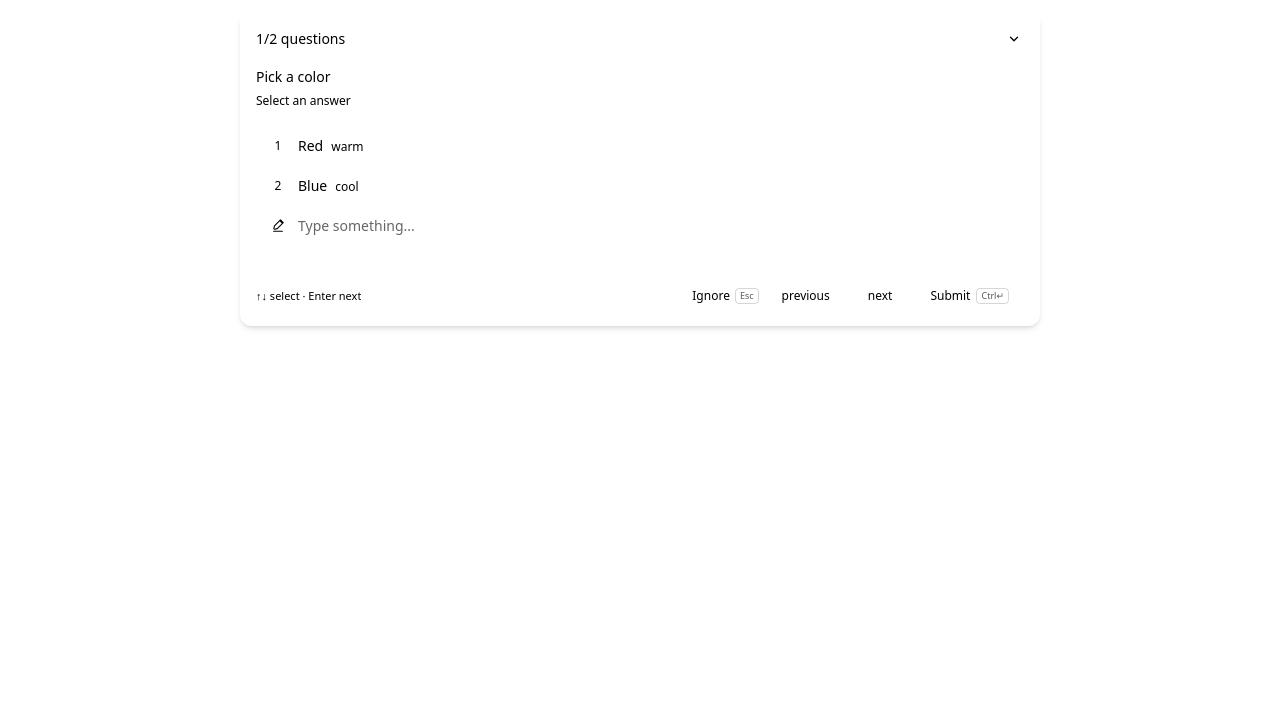
Test: AskUserQuestion multiple questions › moves between questions with horizontal arrows from an action button
Step 1. Click the button "next" → (880, 296), box 853,282 -> 907,310
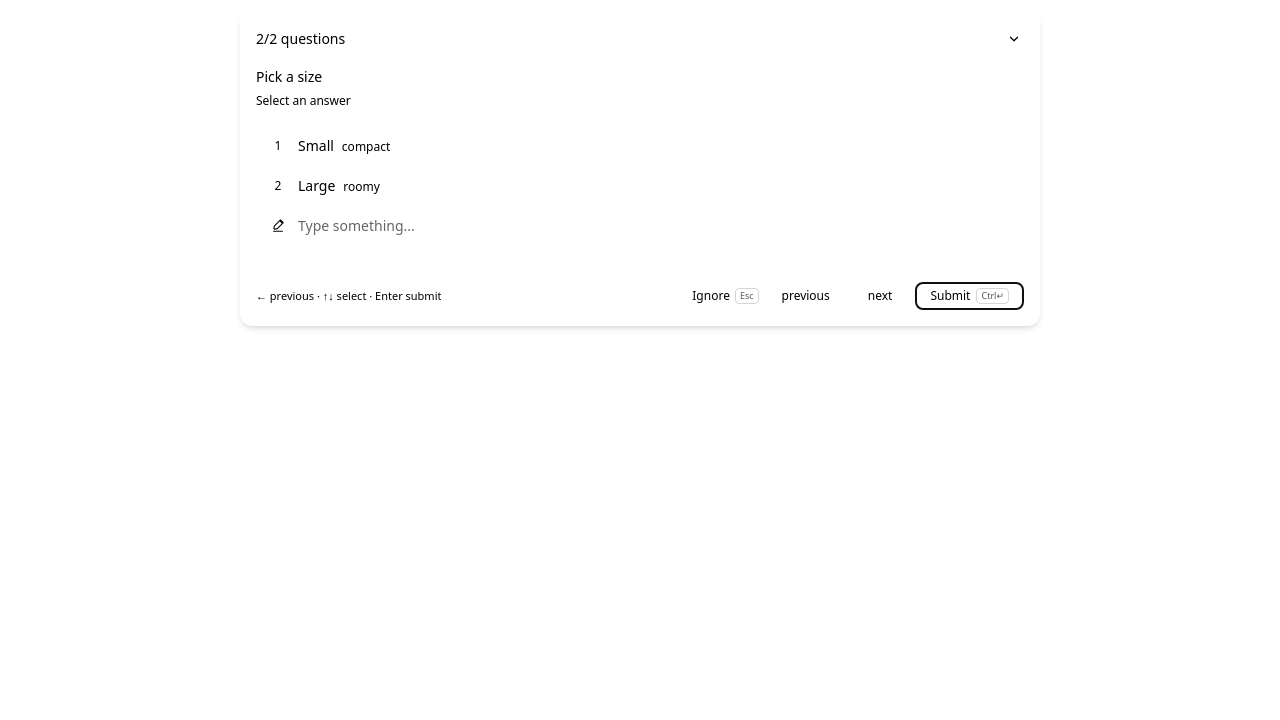
Step 2. Press ArrowLeft in the button "Submit", box 915,282 -> 1024,310
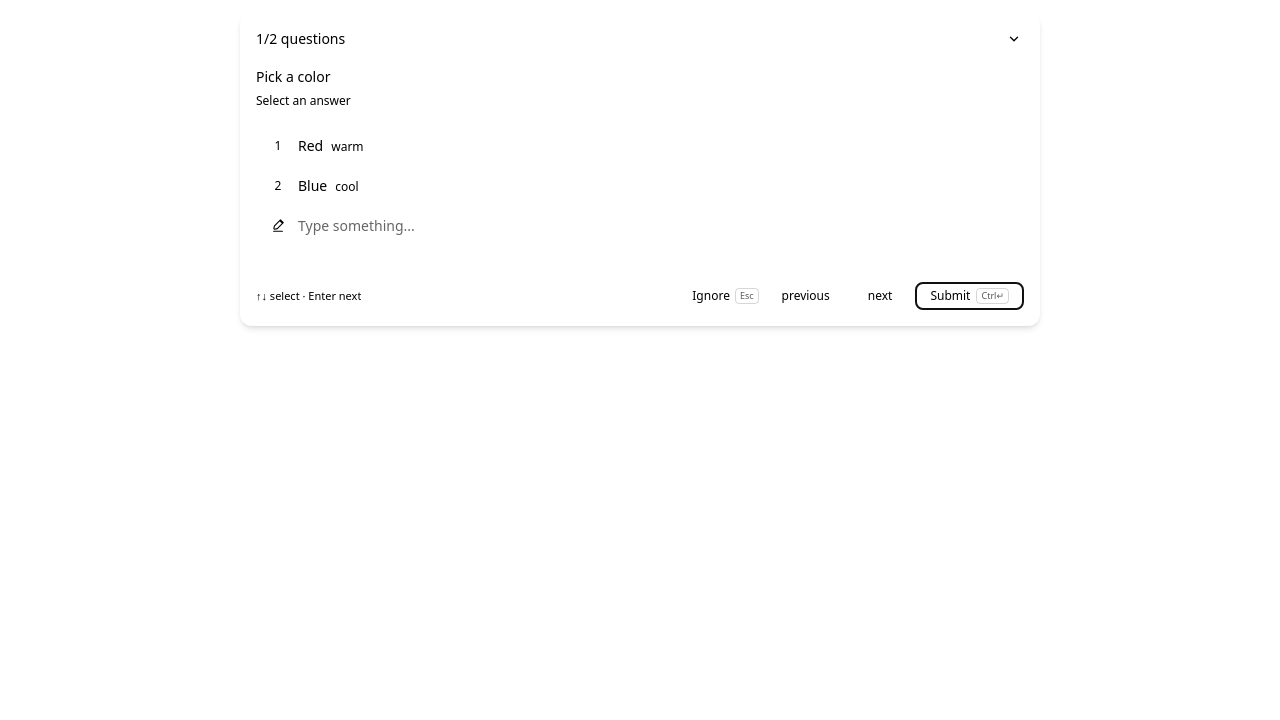
Expected: the text "Pick a color" is shown, 256,67 -> 330,86
Step 3. Press ArrowRight in the button "Submit", box 915,282 -> 1024,310
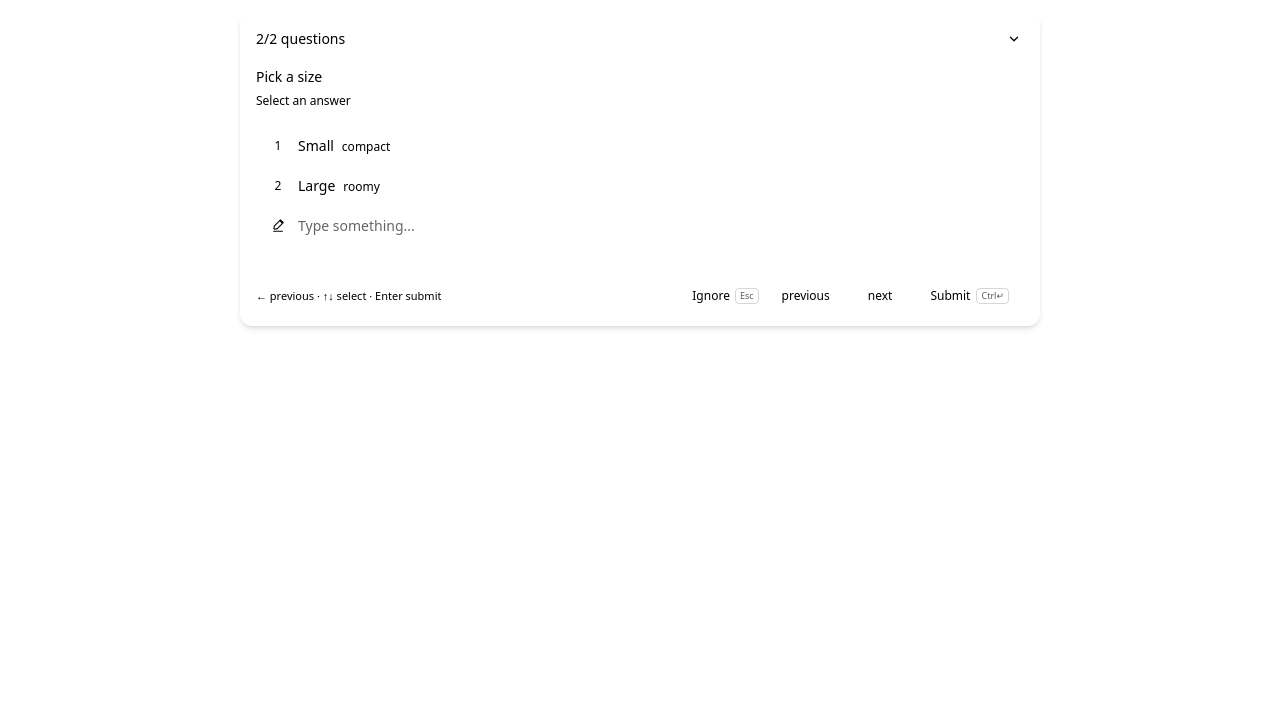
Expected: the text "Pick a size" is shown, 256,67 -> 322,86
